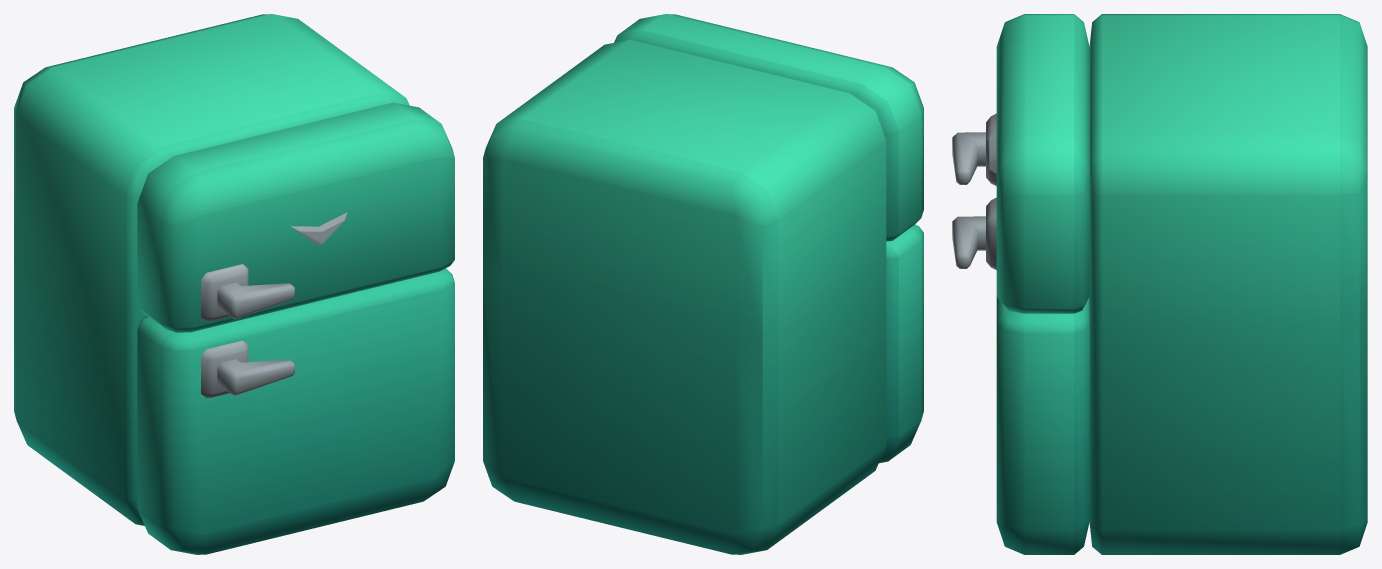
File: kaykit-restaurant-bits-fridge-a-decorated.glb
The picture shows the model from 3 angles, left to right: view 1: azimuth 30°, elevation 25°; view 2: azimuth 150°, elevation 25°; view 3: azimuth 270°, elevation 25°; orthographic projection. The views are drawn at different scales.
Visible parts, largest first — view 1: Cube.106, fridge_A_decorated_door_bottom, fridge_A_decorated_door_top; view 2: Cube.106, fridge_A_decorated_door_top, fridge_A_decorated_door_bottom; view 3: Cube.106, fridge_A_decorated_door_top, fridge_A_decorated_door_bottom.
Part boxes in pixels (x1,y1,x2,y2): Cube.106: (14, 14, 409, 525); fridge_A_decorated_door_bottom: (137, 268, 454, 554); fridge_A_decorated_door_top: (137, 102, 454, 332); Cube.106: (483, 39, 886, 554); fridge_A_decorated_door_top: (614, 14, 923, 241); fridge_A_decorated_door_bottom: (879, 224, 923, 463); Cube.106: (1089, 14, 1367, 554); fridge_A_decorated_door_top: (952, 14, 1089, 313); fridge_A_decorated_door_bottom: (952, 197, 1089, 554).
Size of the model in its own units: 2 by 2.5 by 2.24.
1 material, 1 textured.
